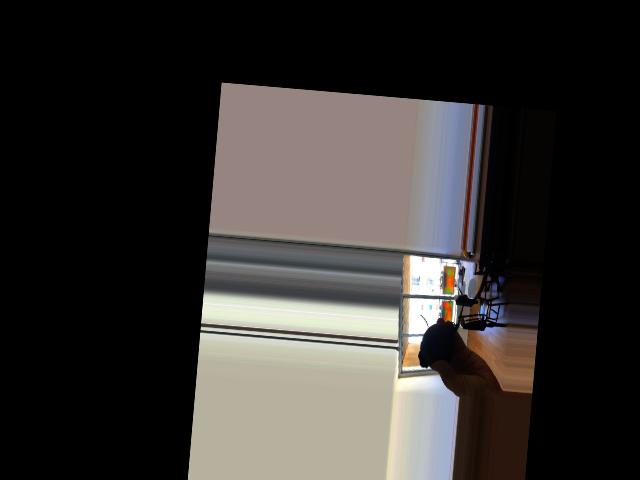beet: (417, 283, 465, 370)
